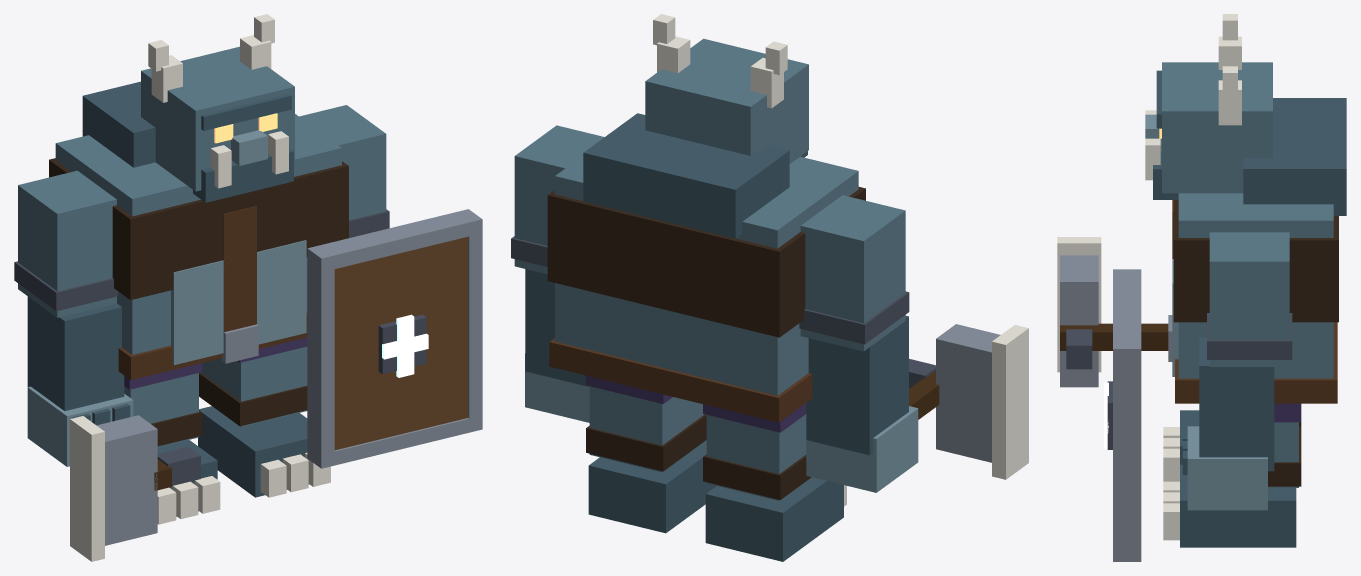
Rendered from monster-tank.glb.
3 renders of one model, left to right at view 1: azimuth 30°, elevation 25°; view 2: azimuth 150°, elevation 25°; view 3: azimuth 270°, elevation 25°, orthographic. The views are drawn at different scales.
Visible parts, largest first — view 1: shield, body_vest, head, right_arm, body, body_belly, right_arm_fore, weapon_head, left_foot, shield_rim_r, left_arm, shield_rim_top (+33 smaller); view 2: body_vest, body, body_hump, head, right_arm, right_arm_fore, right_foot, left_foot, body_belt, weapon_head, left_arm, weapon_edge (+15 smaller); view 3: head, body, body_hump, left_arm, body_vest, left_arm_fore, shield_rim_l, left_foot, left_hand, weapon_head, shield_rim_top, body_belt (+18 smaller).
Boxes of the visible parts, x1,y1,x2,y2 form: shield: (334, 237, 467, 450); body_vest: (49, 158, 348, 299); head: (141, 46, 294, 191); right_arm: (18, 170, 116, 317); body: (55, 114, 341, 354); body_belly: (171, 240, 306, 365); right_arm_fore: (27, 296, 124, 410); weapon_head: (96, 415, 157, 545); left_foot: (198, 406, 309, 497); shield_rim_r: (307, 249, 334, 458); left_arm: (299, 105, 386, 219); shield_rim_top: (307, 209, 482, 272); body_vest: (547, 187, 865, 337); body: (555, 155, 858, 395); body_hump: (583, 113, 789, 238); head: (645, 38, 808, 163); right_arm: (800, 195, 905, 351); right_arm_fore: (806, 315, 908, 455); right_foot: (705, 477, 843, 561); left_foot: (588, 440, 716, 533); body_belt: (549, 338, 812, 422); weapon_head: (936, 324, 1000, 462); left_arm: (514, 125, 604, 274); weapon_edge: (992, 325, 1028, 479); head: (1162, 62, 1272, 193); body: (1178, 193, 1333, 378); body_hump: (1243, 98, 1346, 215); left_arm: (1209, 232, 1289, 366); body_vest: (1173, 200, 1338, 322); left_arm_fore: (1199, 337, 1274, 471); shield_rim_l: (1113, 350, 1141, 560); left_foot: (1180, 464, 1296, 547); left_hand: (1187, 426, 1267, 510); weapon_head: (1060, 255, 1098, 387); shield_rim_top: (1113, 269, 1141, 362); body_belt: (1175, 322, 1337, 403).
Bounding box in the file's own units: 3.79 × 3.92 × 2.24.
